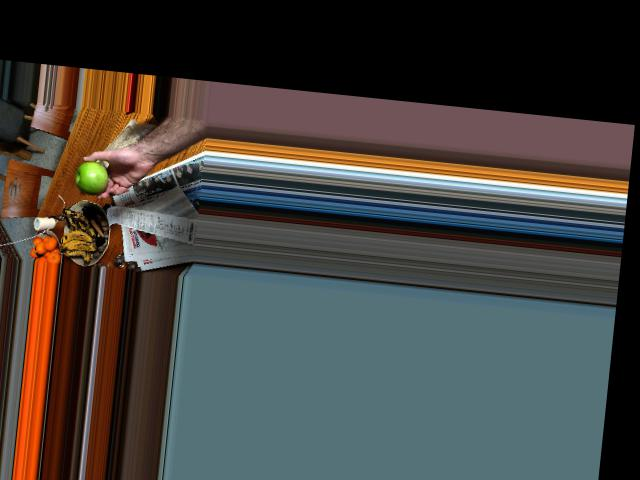apple: (73, 154, 115, 194)
